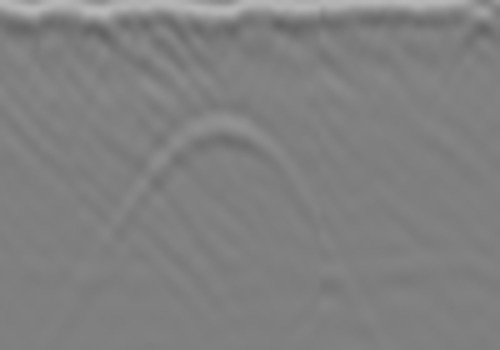hyperbola: (76, 109, 372, 350)
